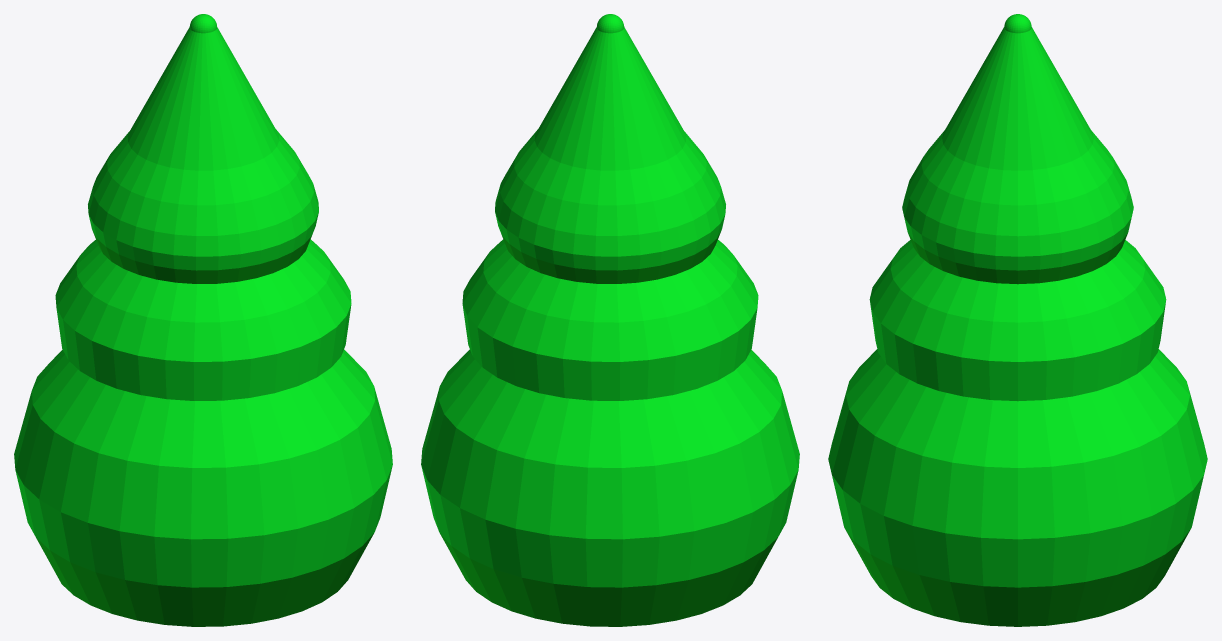
Rendered from Tree4.fbx.
3 views of the same model, side by side, from view 1: azimuth 30°, elevation 25°; view 2: azimuth 150°, elevation 25°; view 3: azimuth 270°, elevation 25° (orthographic).
Visible parts, largest first — view 1: Tree4; view 2: Tree4; view 3: Tree4.
Part boxes in pixels (x1,y1,x2,y2): Tree4: [14, 14, 392, 626]; Tree4: [421, 14, 799, 626]; Tree4: [828, 14, 1207, 626].
Bounding box in the file's own units: 3.1 × 3.1 × 4.94.
